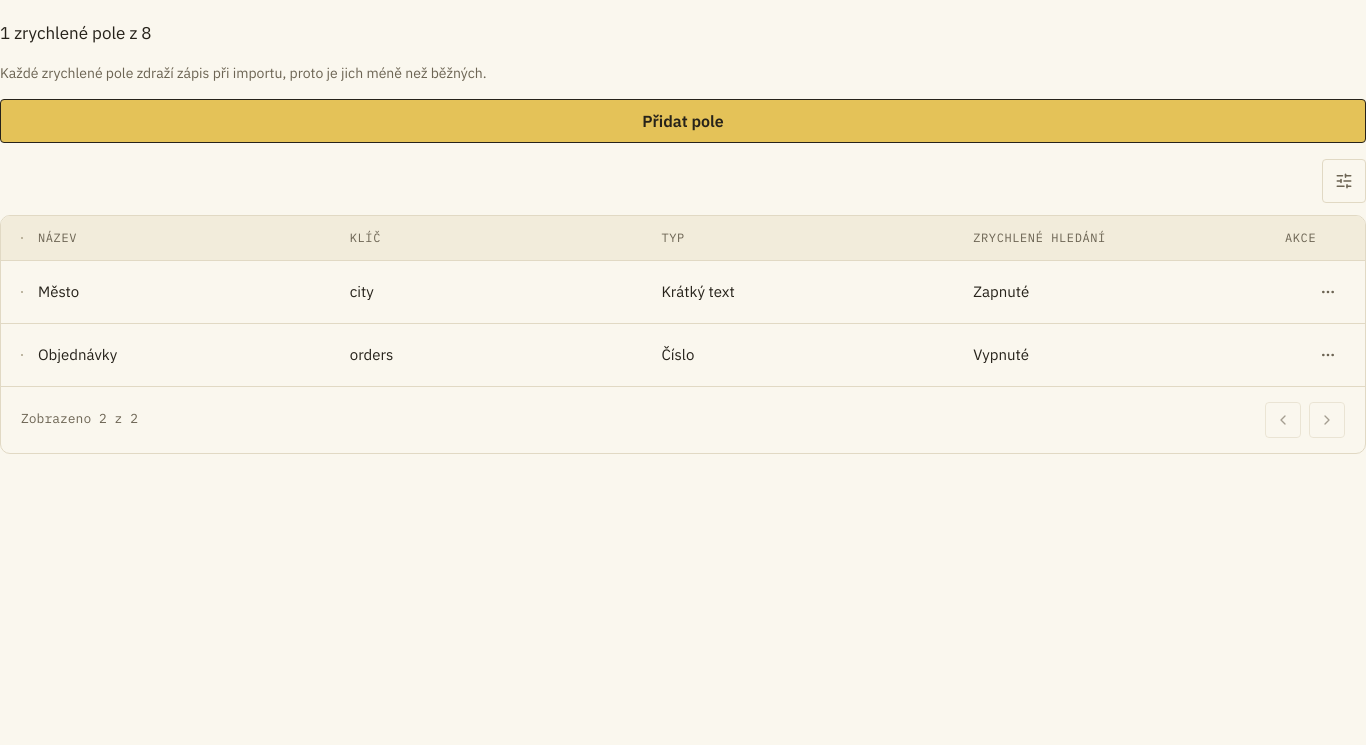
FieldsTable › chybu ze serveru ukáže tak, jak přišla
Click the button with test id "create-field": point(683, 121) [0,99,1365,143]
(page scrolled)
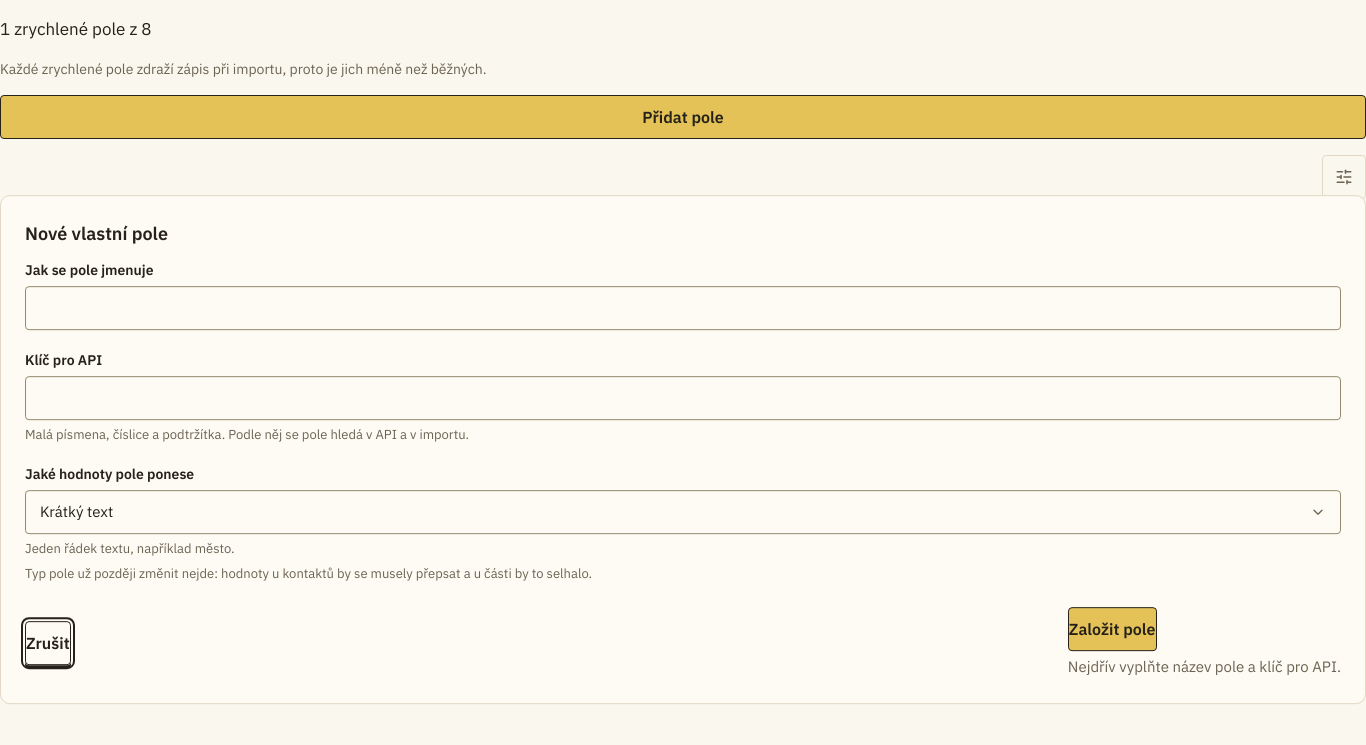
In the field with test id "new-field-label": point(683, 308) [25,286,1341,330], type "Město"
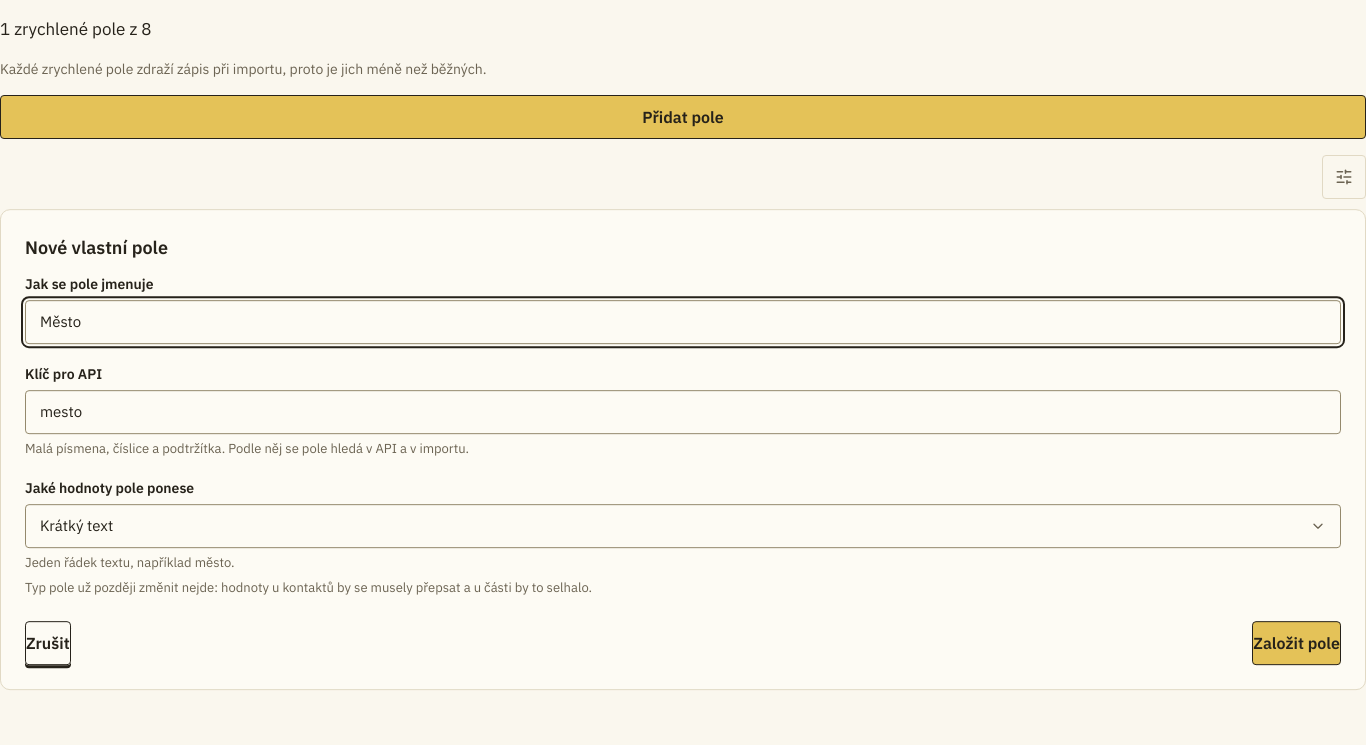
Click the button with test id "new-field-submit": point(1297, 643) [1252,621,1341,665]
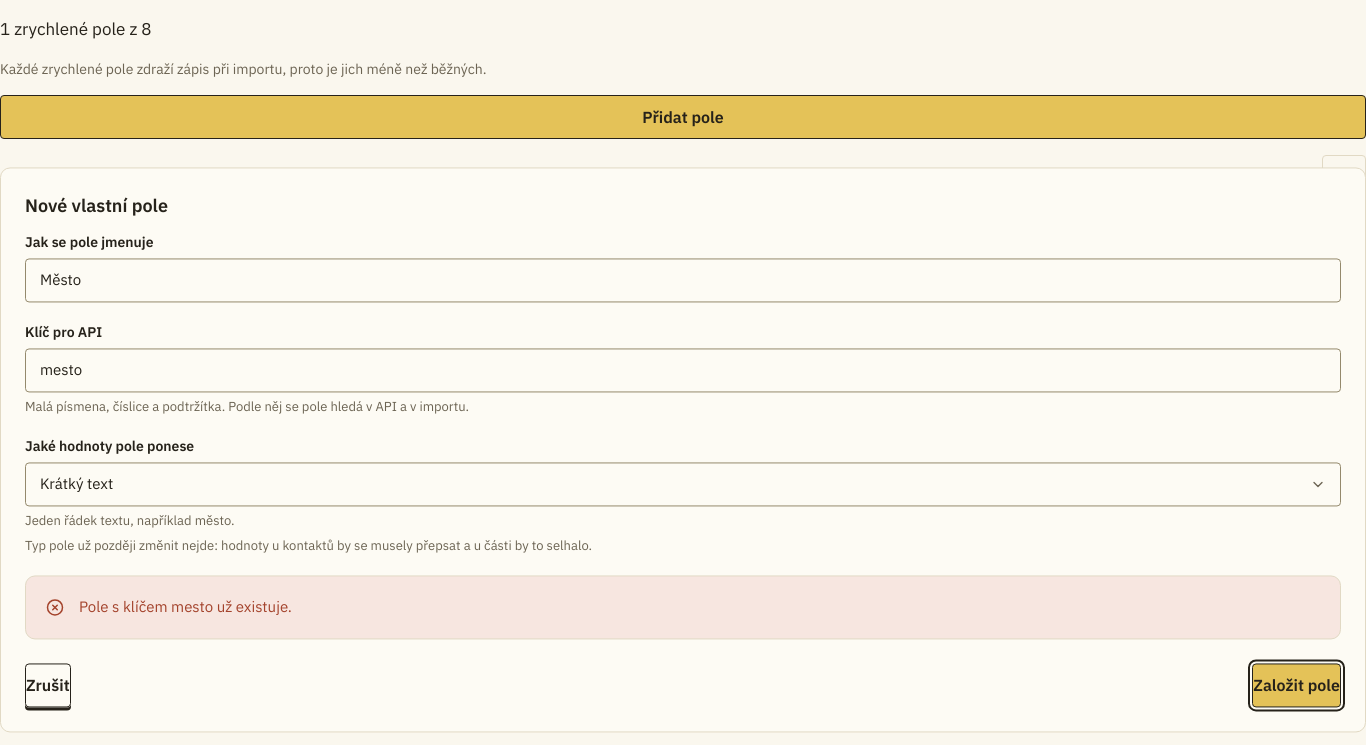
Now the message with test id "new-field-error" reads "Pole s klíčem mesto už existuje.", box [79,598,292,617]
